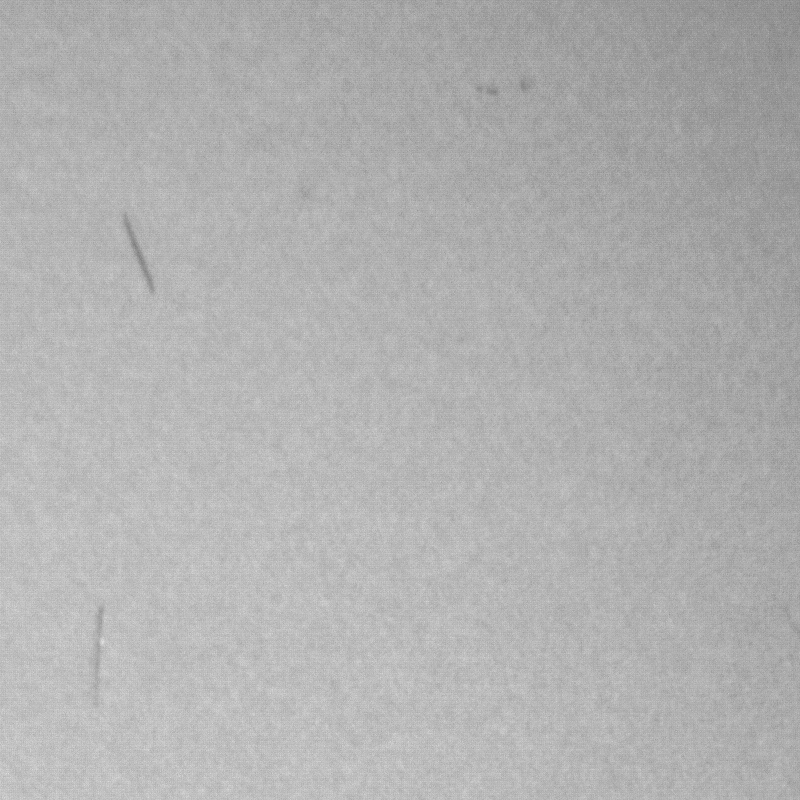defect: (119, 210, 164, 307), (93, 606, 104, 711), (471, 80, 502, 103), (521, 76, 544, 101)
